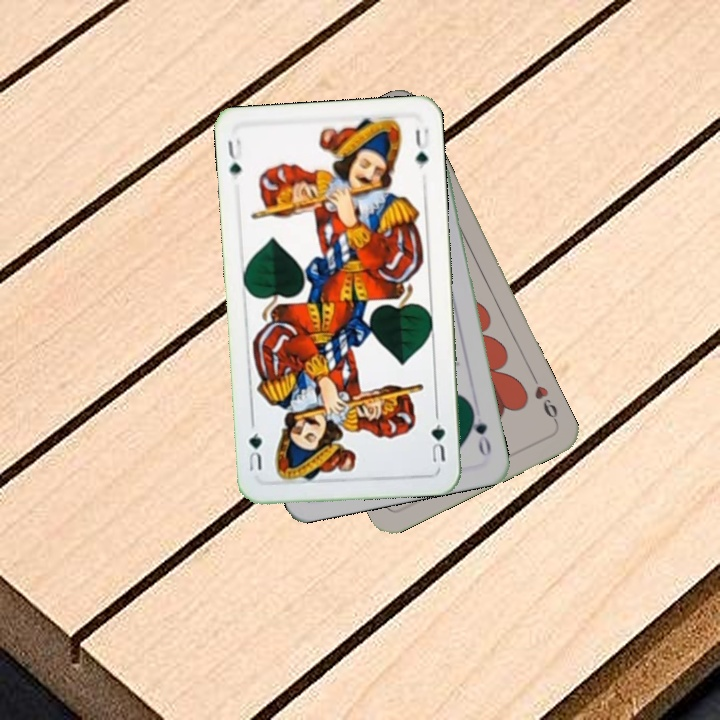GO: (466, 402, 494, 459)
GU: (426, 418, 448, 465), (224, 135, 245, 178)
H9: (528, 372, 561, 427)
